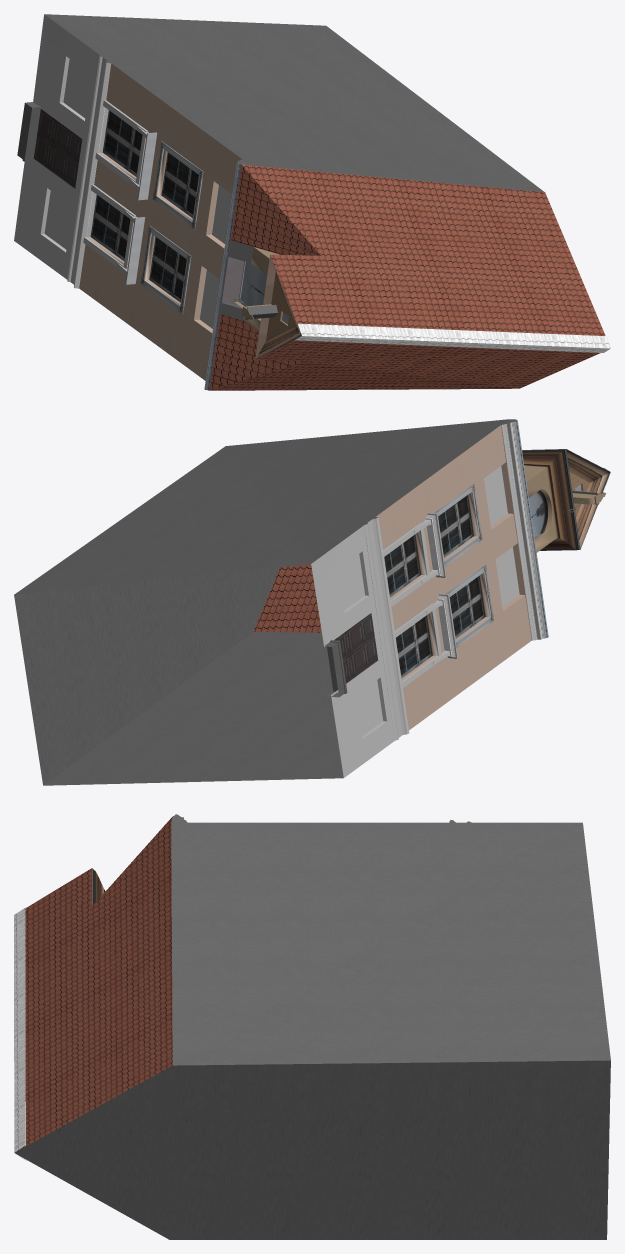
Rendered from Kullassepa_9.obj.
The picture shows the model from 3 angles, top to bottom: view 1: azimuth 30°, elevation 25°; view 2: azimuth 150°, elevation 25°; view 3: azimuth 270°, elevation 25°; orthographic projection. The views are drawn at different scales.
Visible parts, largest first — view 1: Kullassepa_9; view 2: Kullassepa_9; view 3: Kullassepa_9.
Part boxes in pixels (box(x1,y1,x2,y2)): Kullassepa_9: box(14, 14, 610, 390); Kullassepa_9: box(14, 419, 610, 785); Kullassepa_9: box(14, 814, 610, 1239).
Bounding box in the file's own units: 11.11 × 8.92 × 16.64.
